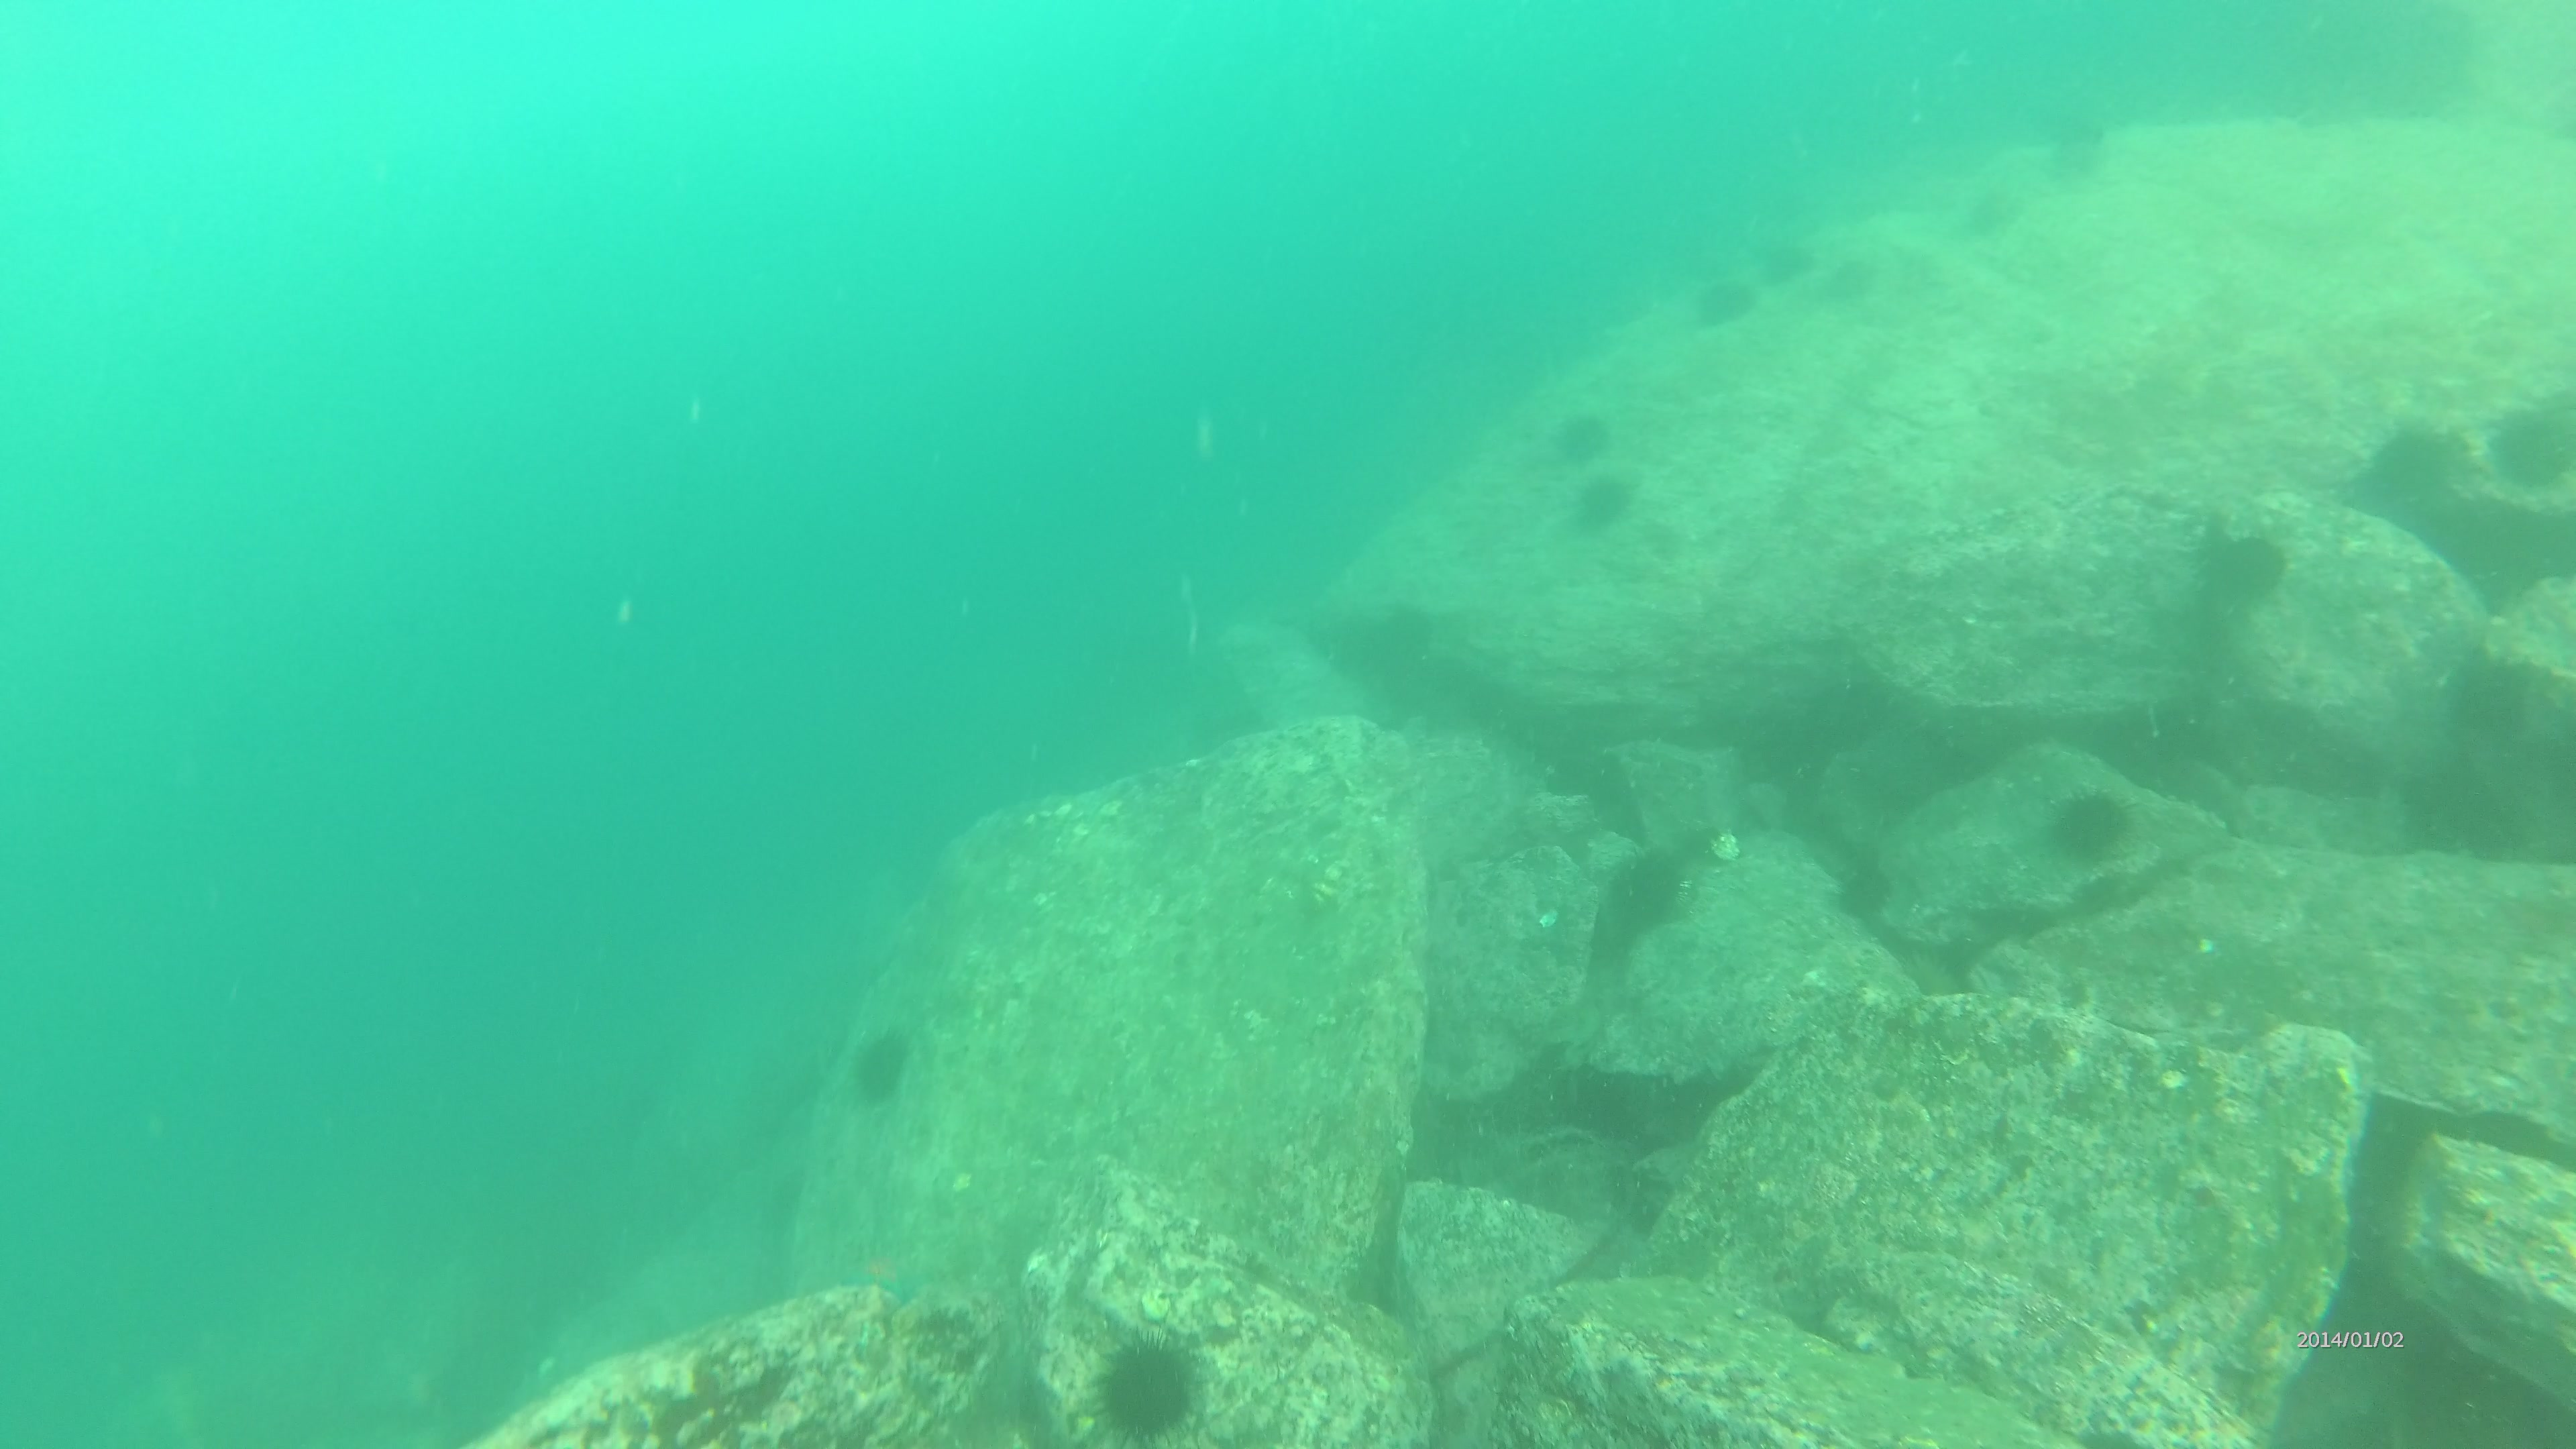echinus: (1081, 1327, 1214, 1449), (2371, 419, 2480, 525), (2440, 655, 2534, 750), (2043, 787, 2144, 874), (1599, 844, 1686, 939), (2190, 536, 2289, 612), (2496, 393, 2576, 483), (840, 1016, 920, 1104), (1826, 858, 1898, 918), (1744, 226, 1815, 287), (1571, 474, 1637, 533), (1681, 278, 1752, 331), (1548, 403, 1610, 460)
starfish: (837, 1238, 918, 1307)
